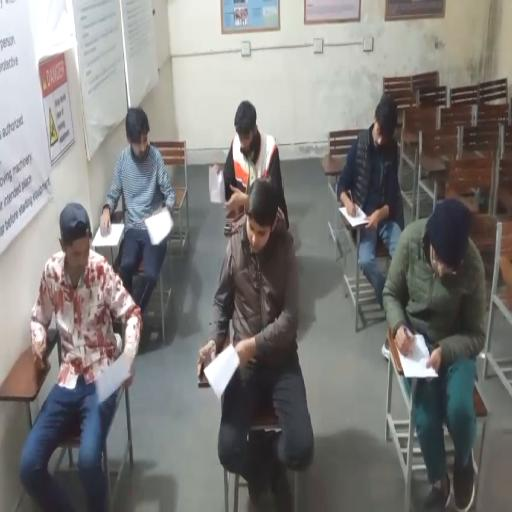paper: (203, 343, 239, 399), (398, 333, 438, 378), (95, 353, 132, 401), (146, 208, 174, 246), (92, 221, 125, 248), (339, 203, 369, 227), (208, 166, 226, 204)
